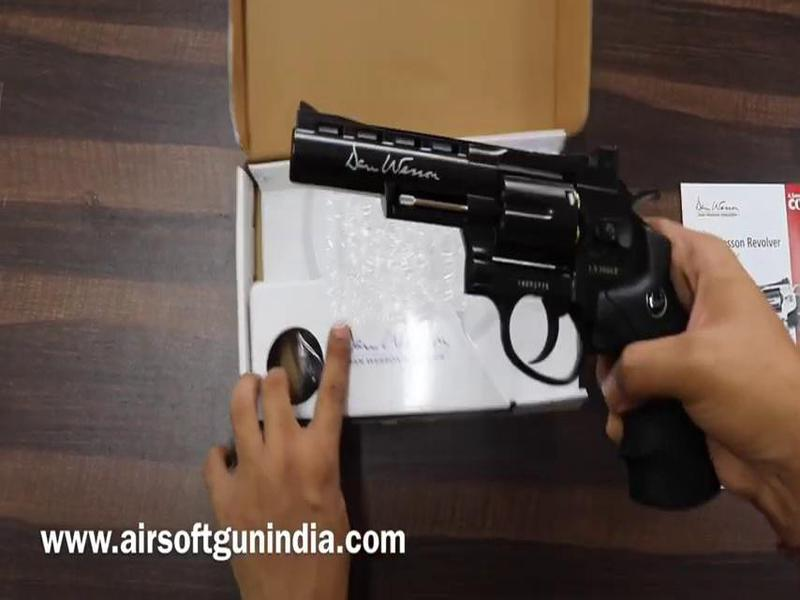Revolver: (239, 45, 743, 514)
